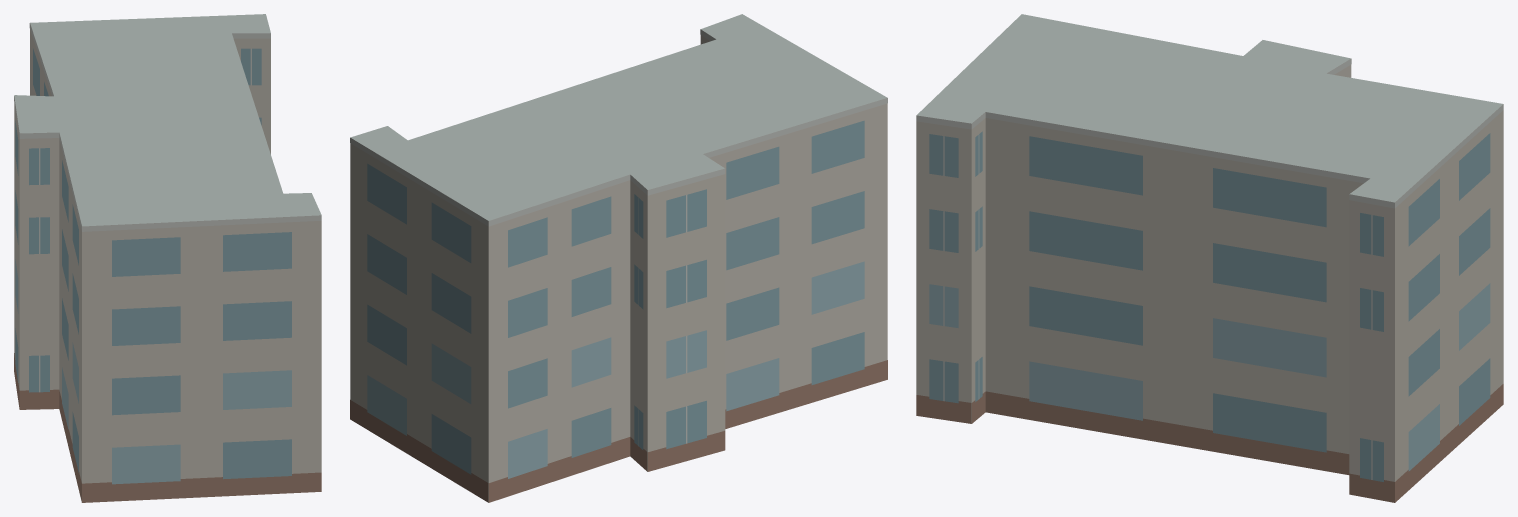
File: survey-upis-32901532.glb
The picture shows the model from 3 angles, left to right: view 1: azimuth 30°, elevation 25°; view 2: azimuth 150°, elevation 25°; view 3: azimuth 270°, elevation 25°; orthographic projection. The views are drawn at different scales.
Parts seen in each view (by area): view 1: survey-upis-32901532.tmp; view 2: survey-upis-32901532.tmp; view 3: survey-upis-32901532.tmp.
Boxes of the visible parts, bbox=[...] form: survey-upis-32901532.tmp: bbox=[14, 14, 321, 502]; survey-upis-32901532.tmp: bbox=[350, 14, 887, 502]; survey-upis-32901532.tmp: bbox=[916, 14, 1503, 502].
Bounding box in the file's own units: 16.57 × 12.3 × 21.81.
